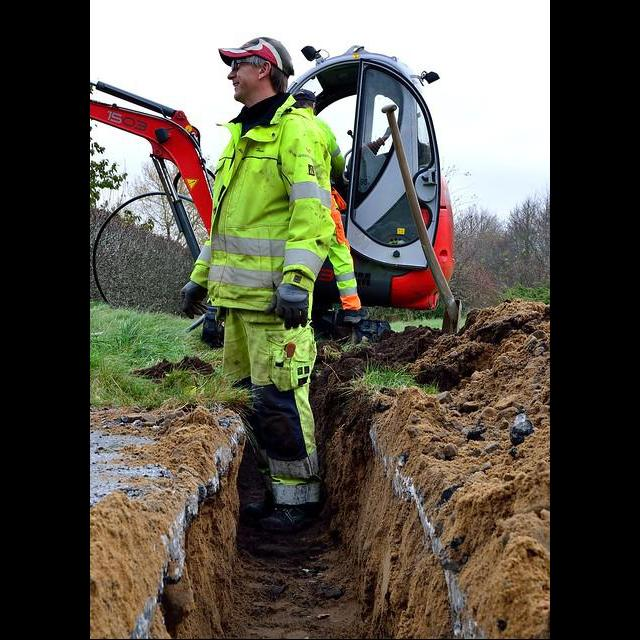Excavator: (93, 45, 467, 352)
Gloves: (269, 284, 310, 329), (180, 283, 208, 319), (343, 307, 370, 333)
NO-Hardhat: (232, 35, 286, 67), (294, 89, 317, 102)
NO-Mask: (229, 74, 267, 101)
Person: (178, 33, 333, 533), (325, 176, 369, 332), (287, 86, 347, 182)
Safety Vest: (205, 106, 332, 310), (212, 164, 349, 301), (285, 110, 336, 178)
